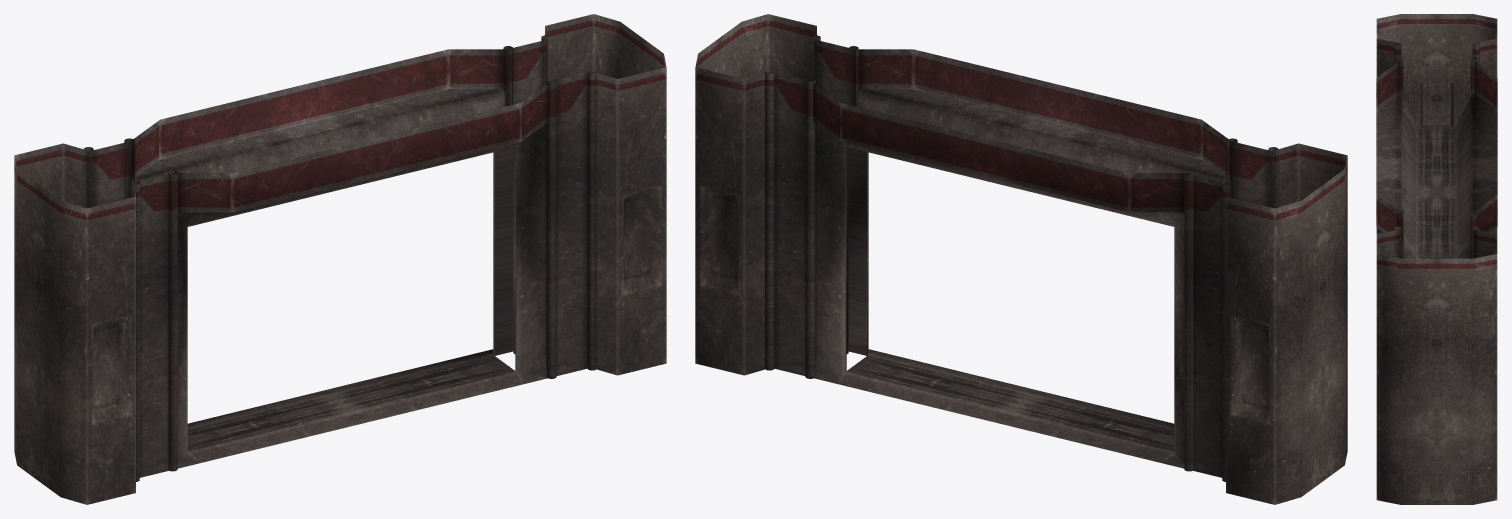
Rendered from scp_door_bigframe.dae.
3 views of the same model, side by side, from view 1: azimuth 30°, elevation 25°; view 2: azimuth 150°, elevation 25°; view 3: azimuth 270°, elevation 25° (orthographic). The views are drawn at different scales.
Visible parts, largest first — view 1: contFrameMesh; view 2: contFrameMesh; view 3: contFrameMesh.
Boxes of the visible parts, box(x1,y1,x2,y2) form: contFrameMesh: box(14, 14, 666, 504); contFrameMesh: box(695, 14, 1347, 504); contFrameMesh: box(1376, 14, 1497, 504).
Size of the model in its own units: 6.71 by 1.41 by 3.16.
1 material, 1 textured.
